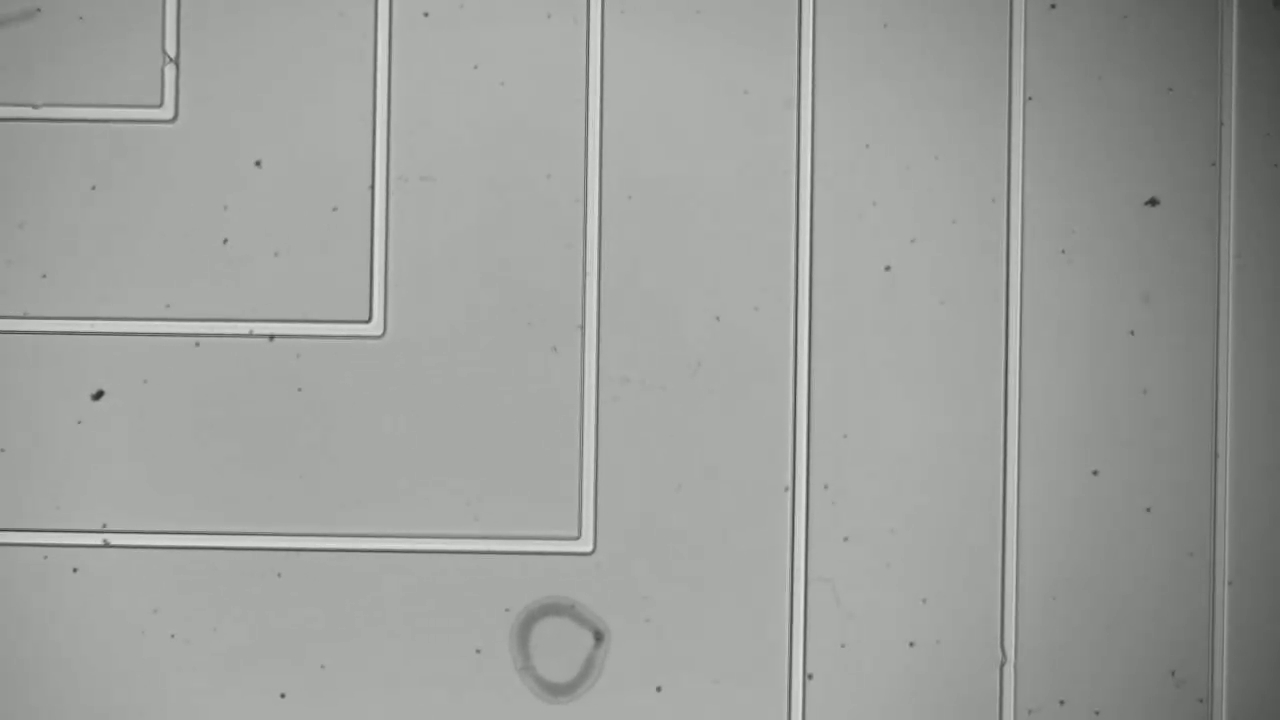edge_bite: (993, 633, 1028, 679), (155, 38, 185, 71)
